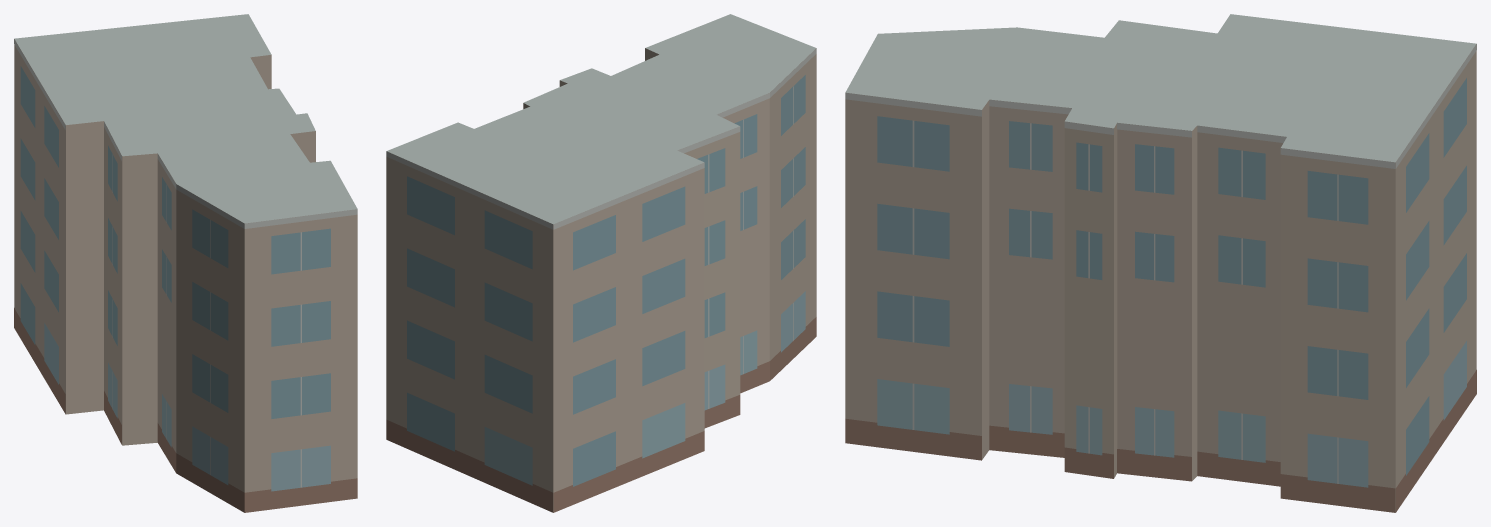
File: survey-upis-32873980.glb
3 renders of one model, left to right at view 1: azimuth 30°, elevation 25°; view 2: azimuth 150°, elevation 25°; view 3: azimuth 270°, elevation 25°, orthographic. The views are drawn at different scales.
Parts seen in each view (by area): view 1: survey-upis-32873980.tmp; view 2: survey-upis-32873980.tmp; view 3: survey-upis-32873980.tmp.
Boxes of the visible parts, left/top/right/bottom form: survey-upis-32873980.tmp: left=14, top=14, right=357, bottom=512; survey-upis-32873980.tmp: left=386, top=14, right=816, bottom=512; survey-upis-32873980.tmp: left=845, top=14, right=1476, bottom=512.
Size of the model in its own units: 11.63 by 12.8 by 20.91.
